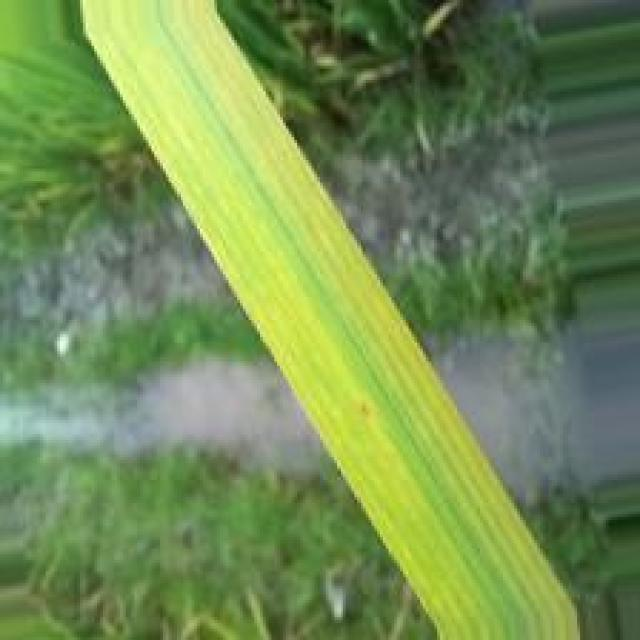Brown_Spot: (360, 403, 371, 418)
